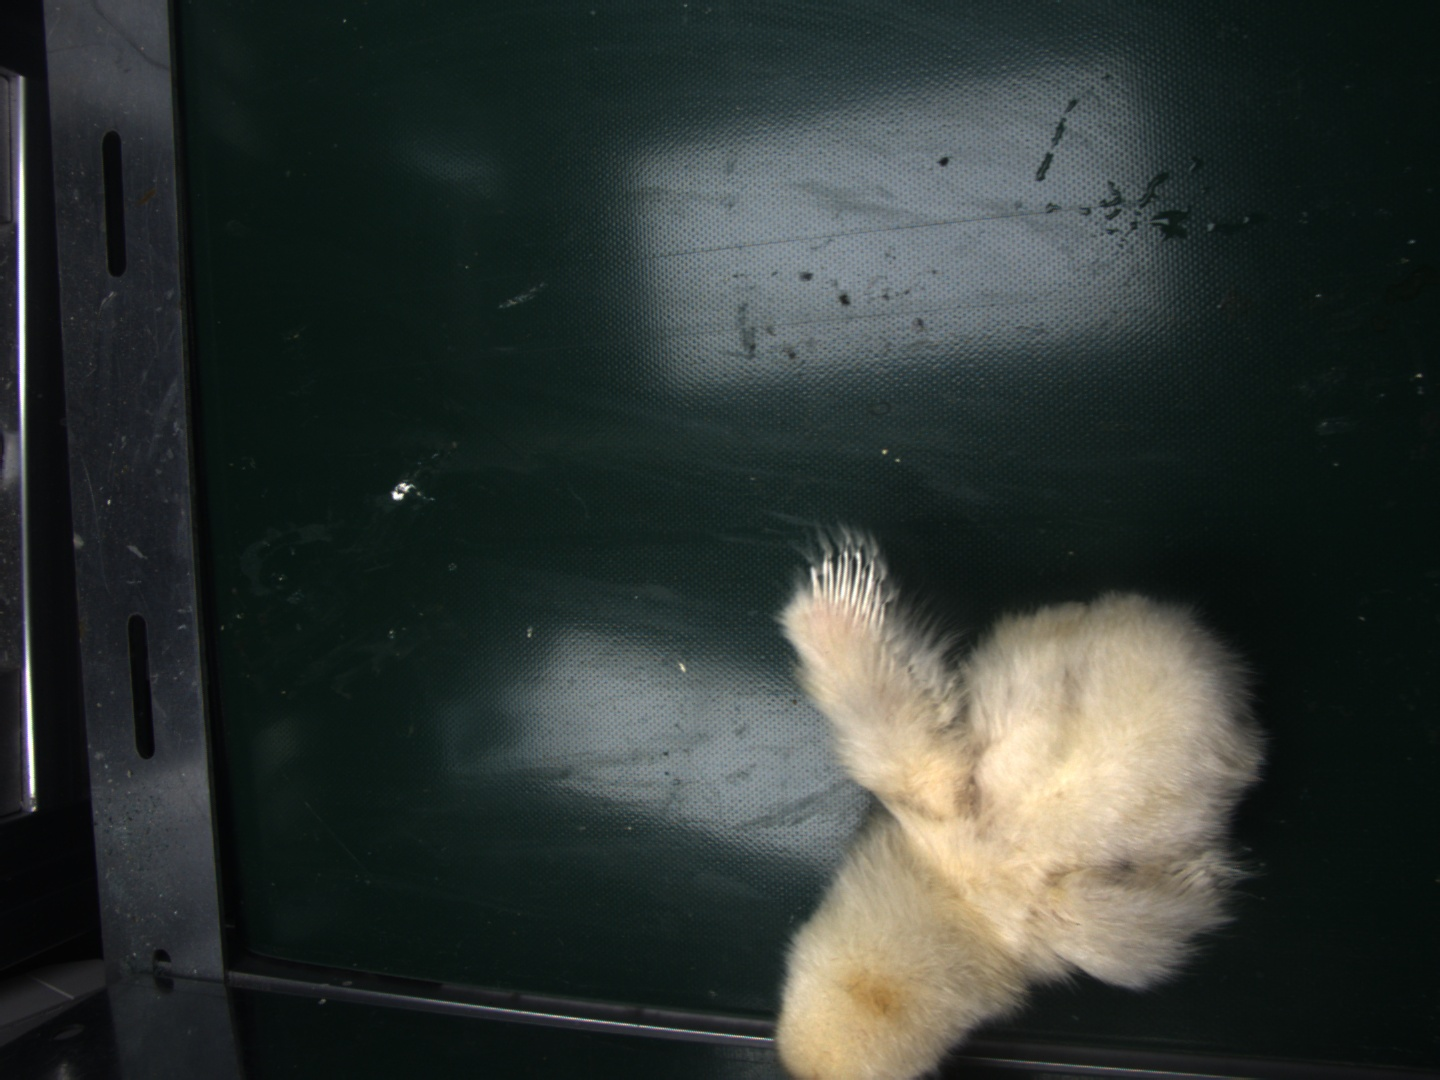male: (808, 545, 888, 626)
